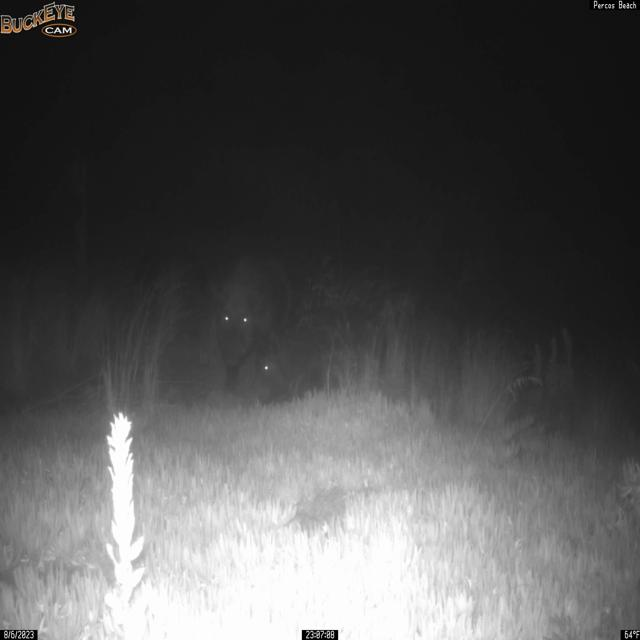pig: (209, 252, 293, 396)
